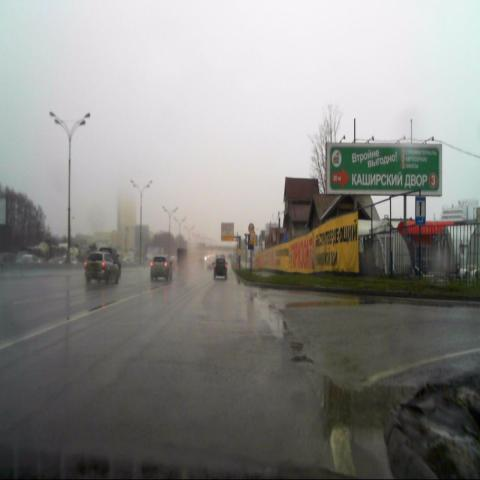7_4: (416, 196, 426, 225)
